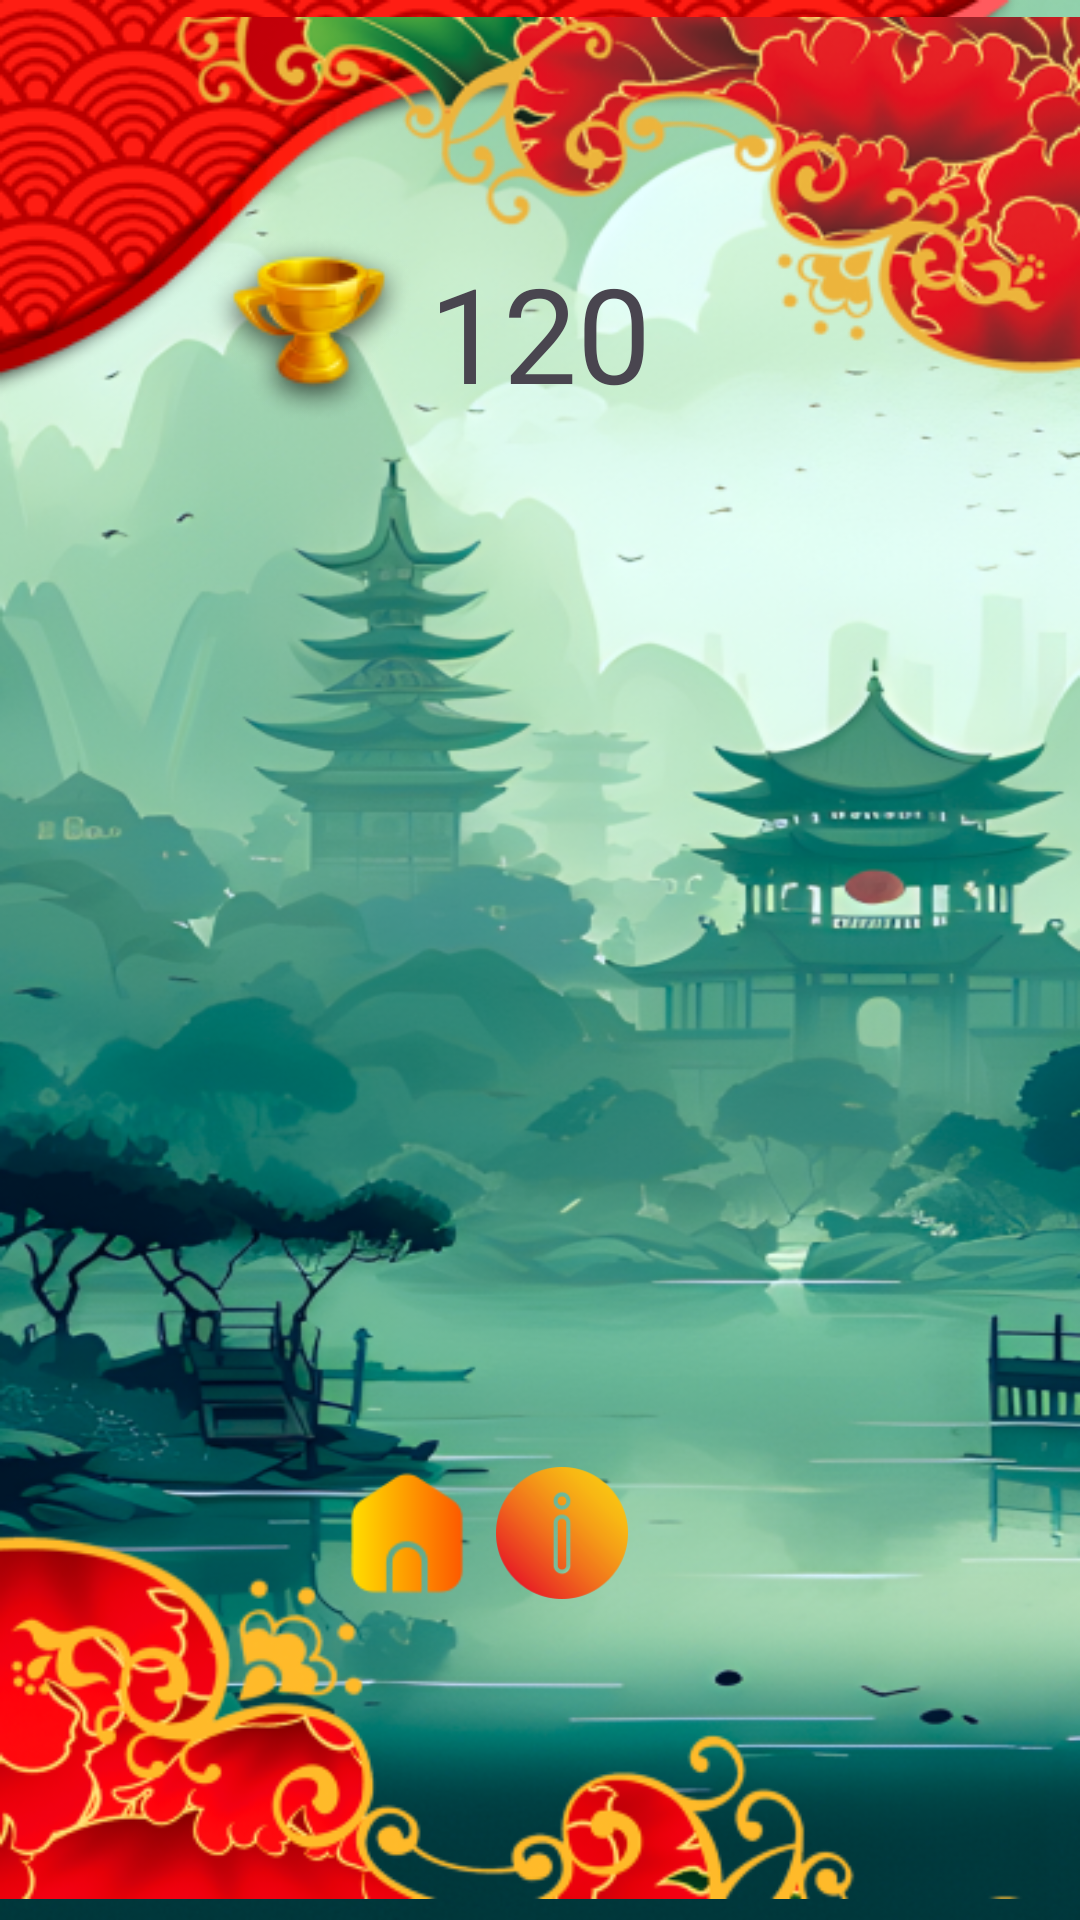

Named icons in this screenshot (1080 x 1920) and their centers, point (x, y):
home: point (407, 1533)
info: point (562, 1533)
